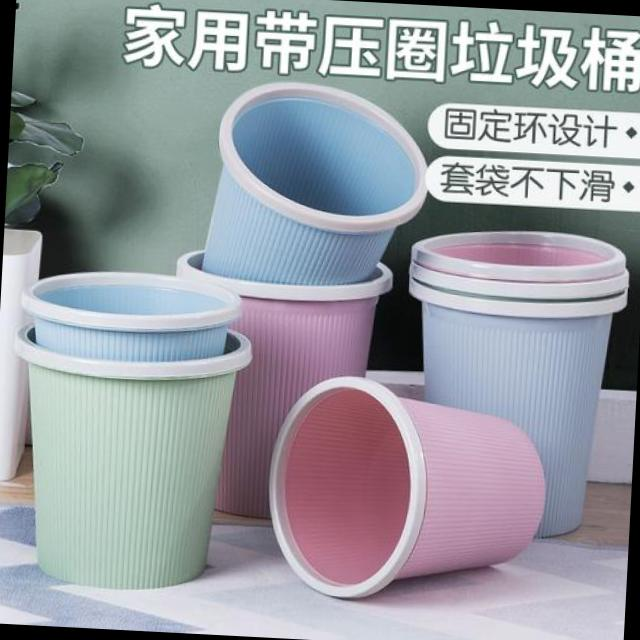dustbin: (0, 319, 255, 601), (264, 369, 556, 610), (166, 246, 397, 530), (392, 275, 630, 545), (199, 72, 435, 290)
